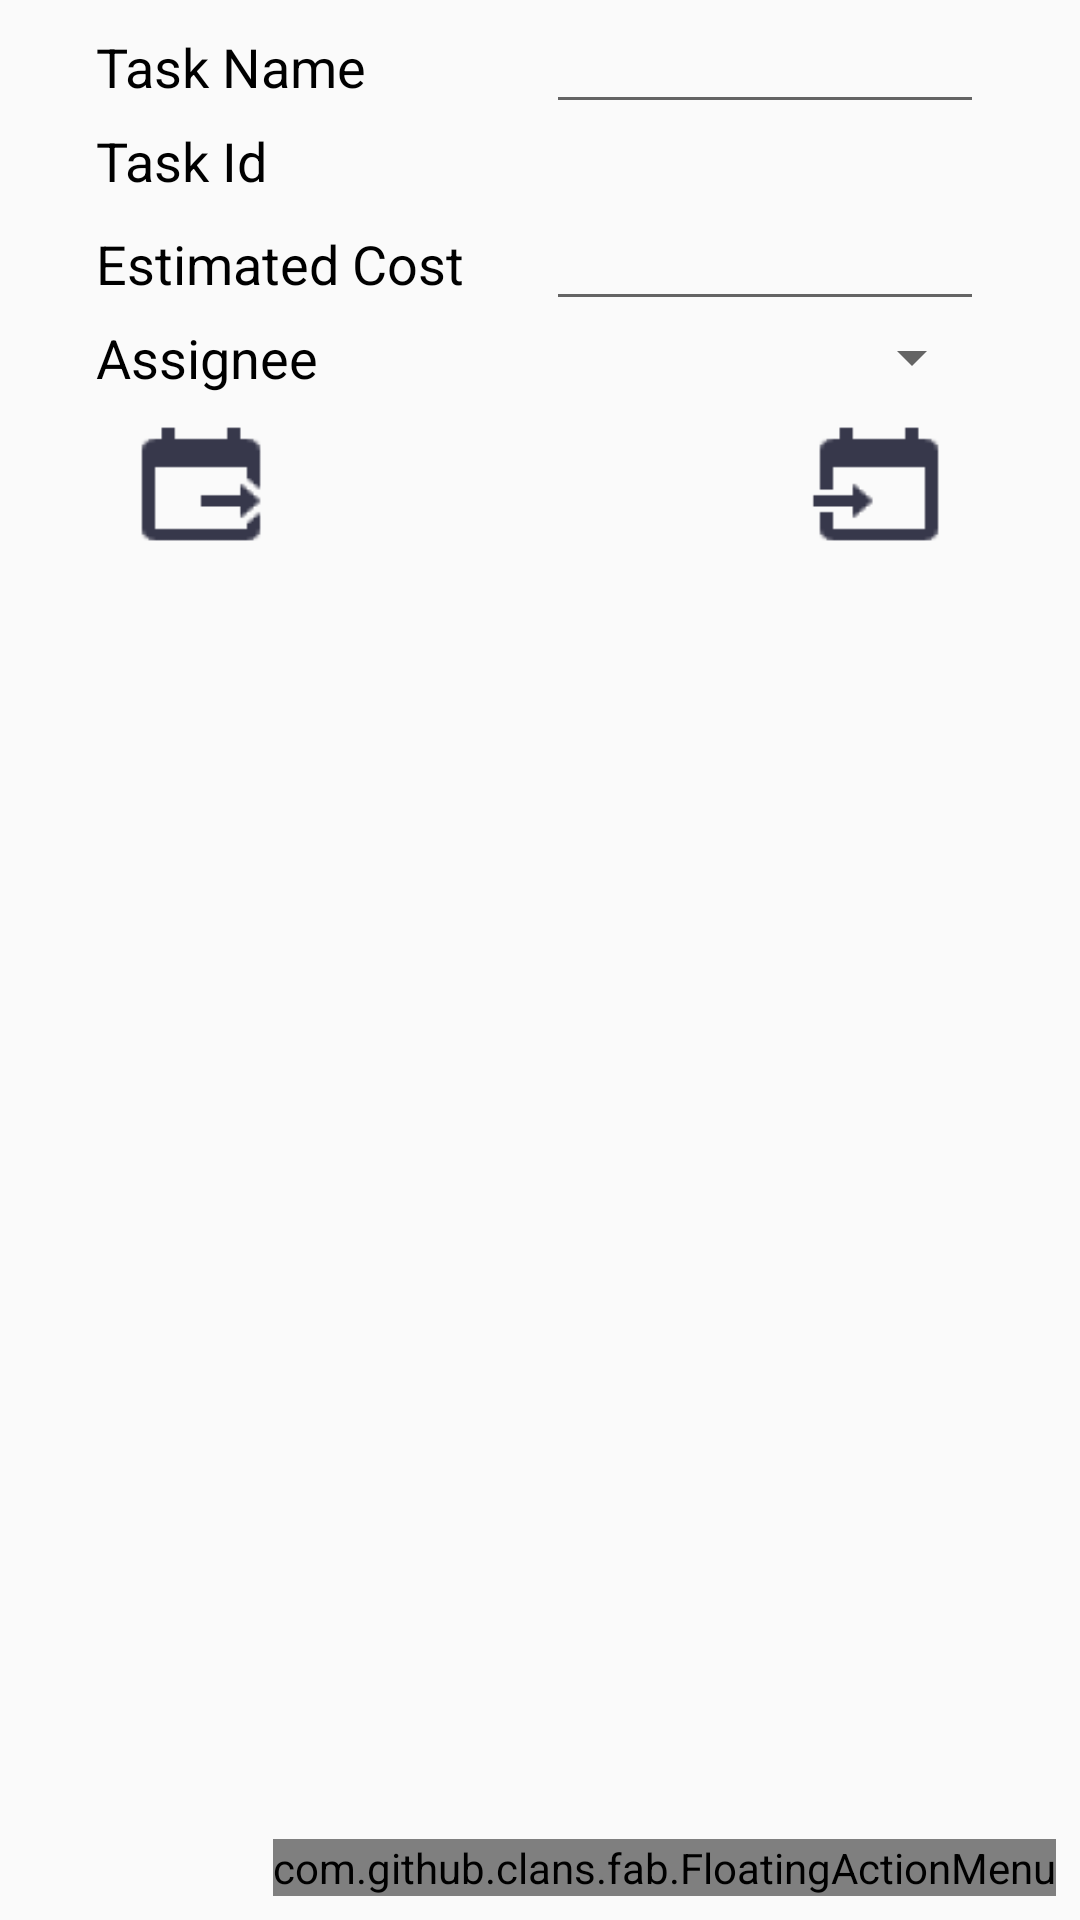

Icons on this 1080px×1920px Android screen, each with the point to tap as point (x, y):
date from: point (201, 484)
date to: point (876, 484)
